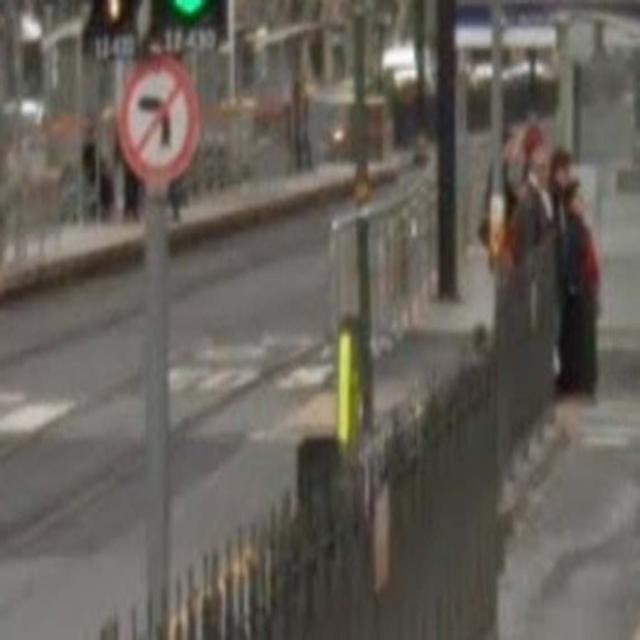soladonulmez: (119, 61, 200, 180)
